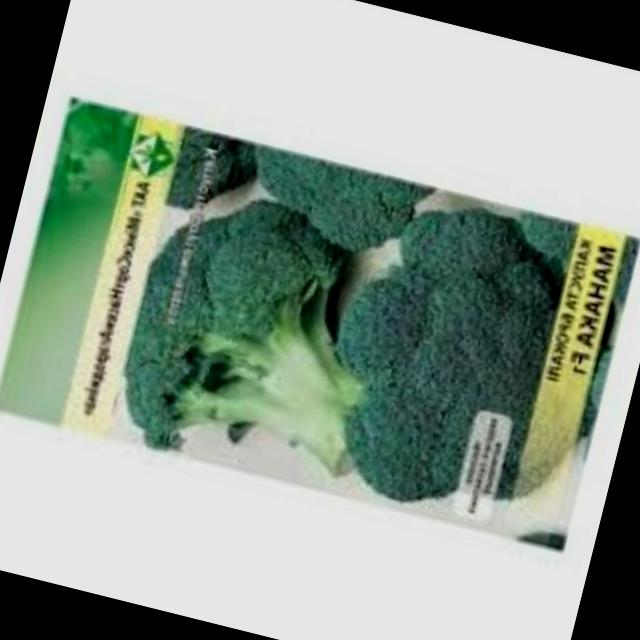Broccoli: (291, 164, 613, 550), (95, 174, 388, 488), (136, 104, 425, 253)
